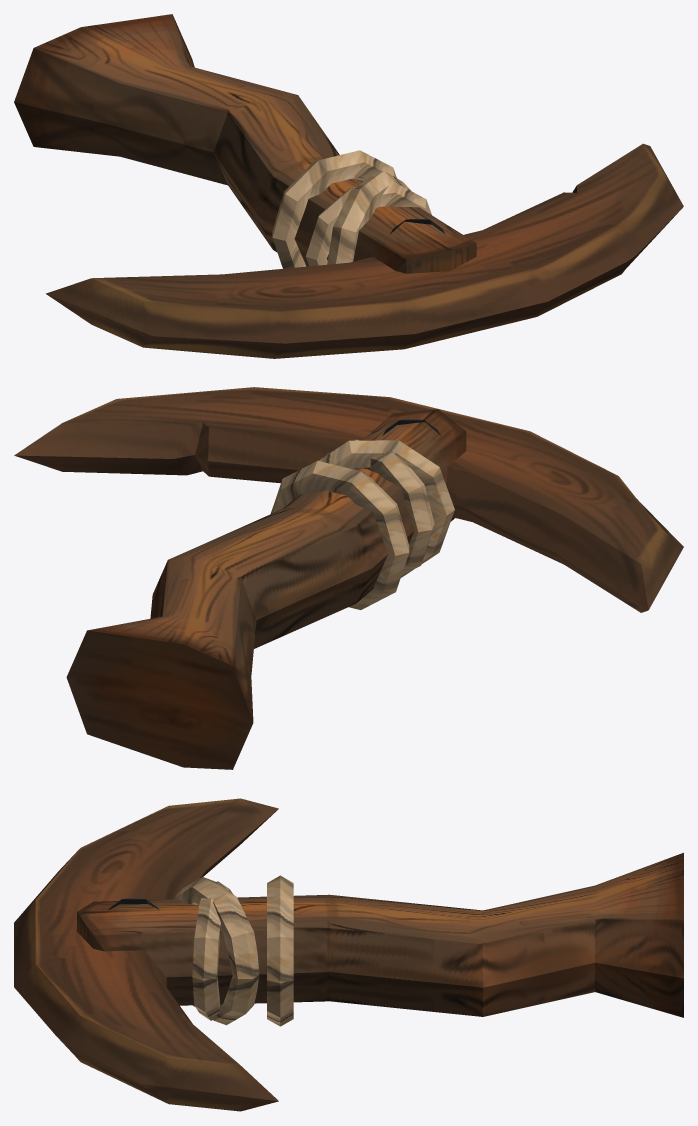
File: Wood_Pick.fbx
3 renders of one model, top to bottom at view 1: azimuth 30°, elevation 25°; view 2: azimuth 150°, elevation 25°; view 3: azimuth 270°, elevation 25°, orthographic. The views are drawn at different scales.
Visible parts, largest first — view 1: Wood_Pick; view 2: Wood_Pick; view 3: Wood_Pick.
Part boxes in pixels (x1,y1,x2,y2): Wood_Pick: [14, 14, 683, 358]; Wood_Pick: [14, 387, 683, 769]; Wood_Pick: [14, 798, 683, 1111].
Size of the model in its own units: 956 by 200 by 925.
